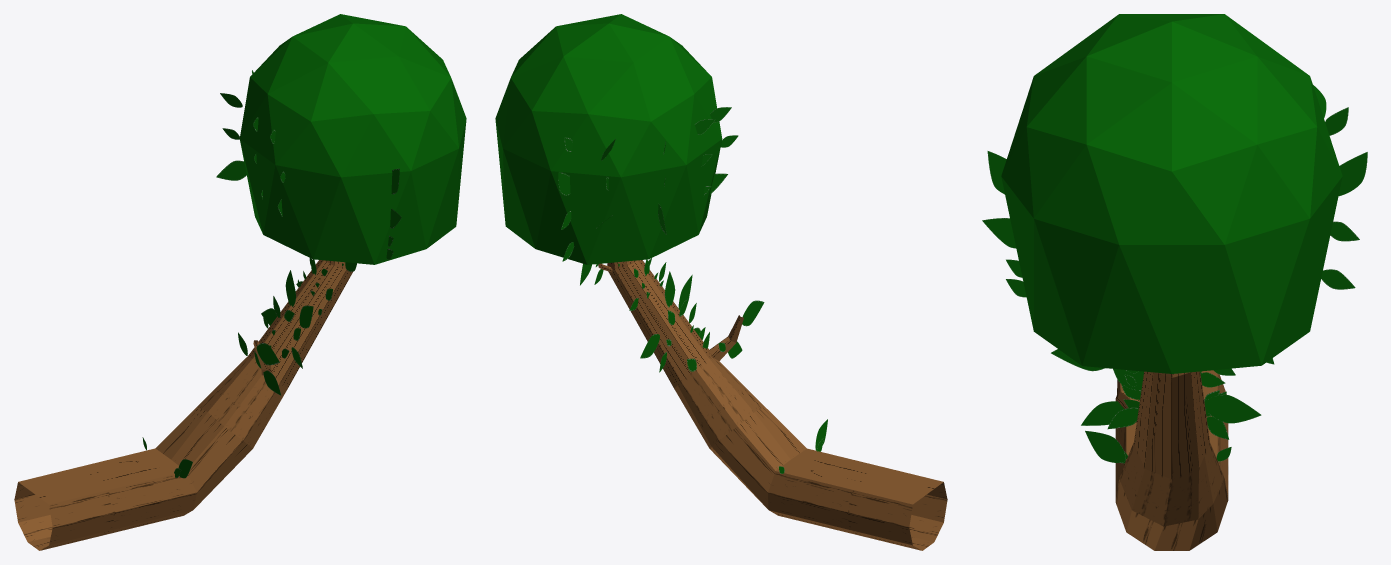
Rendered from Branche.fbx.
The picture shows the model from 3 angles, left to right: view 1: azimuth 30°, elevation 25°; view 2: azimuth 150°, elevation 25°; view 3: azimuth 270°, elevation 25°; orthographic projection. The views are drawn at different scales.
Parts seen in each view (by area): view 1: Leafs, Branche; view 2: Leafs, Branche; view 3: Leafs, Branche.
Boxes of the visible parts, left/top/right/bottom form: Leafs: left=142, top=14, right=466, bottom=478; Branche: left=14, top=260, right=352, bottom=550; Leafs: left=495, top=14, right=827, bottom=473; Branche: left=598, top=260, right=947, bottom=550; Leafs: left=982, top=14, right=1367, bottom=463; Branche: left=1115, top=370, right=1228, bottom=550.
Size of the model in its own units: 1251 by 1282 by 709.
